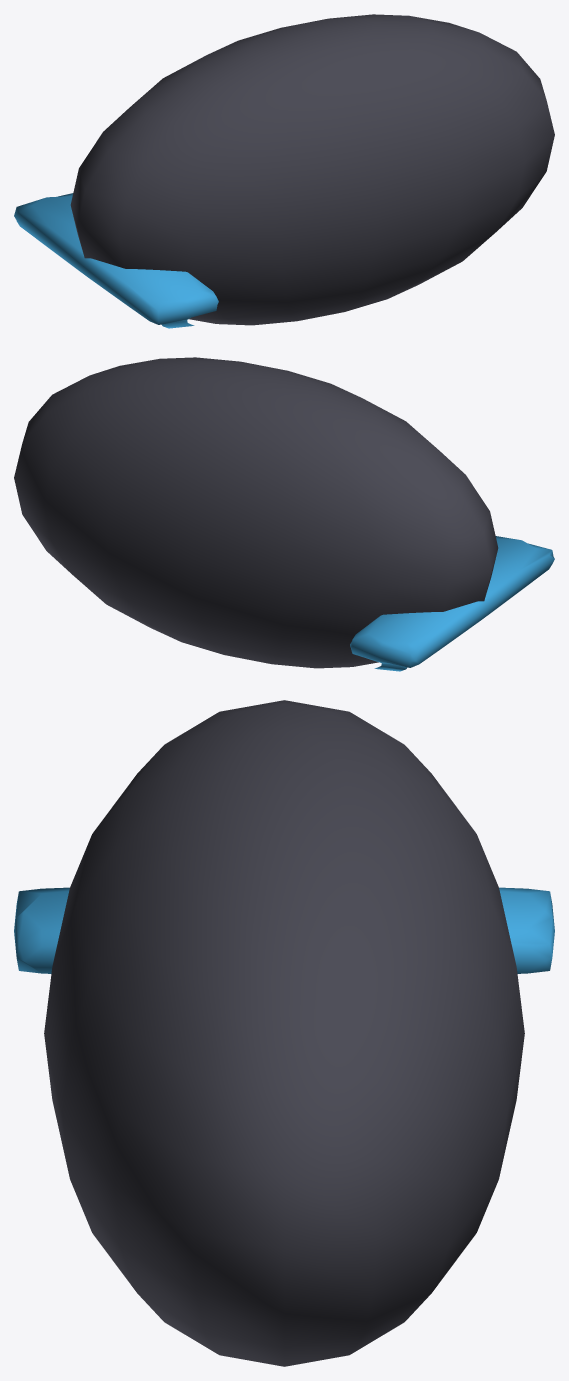
The model's file is helmet-aero.glb.
3 views of the same model, one above another, from view 1: azimuth 30°, elevation 25°; view 2: azimuth 150°, elevation 25°; view 3: azimuth 270°, elevation 25° (orthographic). The views are drawn at different scales.
Visible parts, largest first — view 1: helmet; view 2: helmet; view 3: helmet.
Boxes of the visible parts, box(x1,y1,x2,y2) form: helmet: box(14, 14, 554, 328); helmet: box(14, 357, 554, 671); helmet: box(14, 700, 554, 1366).
Bounding box in the file's own units: 0.414 × 0.23 × 0.22.
